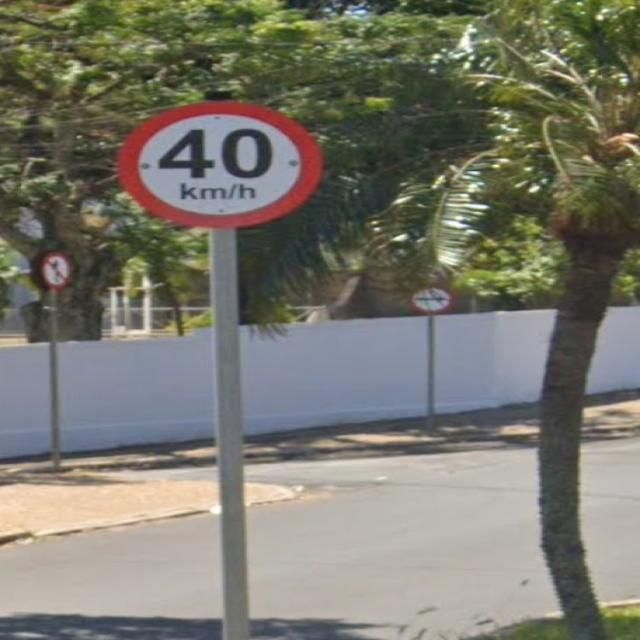speed limit: (116, 96, 328, 250)
